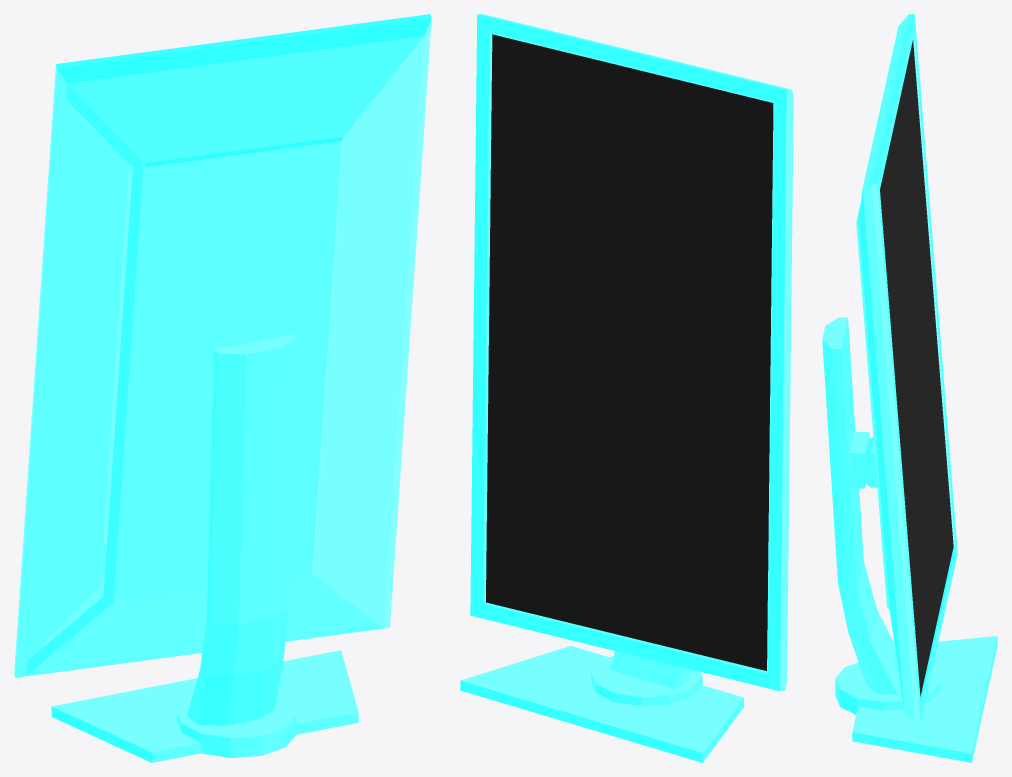
Rendered from Monitor_Vertical.fbx.
3 views of the same model, side by side, from view 1: azimuth 30°, elevation 25°; view 2: azimuth 150°, elevation 25°; view 3: azimuth 270°, elevation 25° (orthographic). The views are drawn at different scales.
Visible parts, largest first — view 1: Monitor_01.037; view 2: Monitor_01.037; view 3: Monitor_01.037.
Boxes of the visible parts, x1=… form: Monitor_01.037: x1=14, y1=14, x2=431, y2=762; Monitor_01.037: x1=460, y1=14, x2=793, y2=762; Monitor_01.037: x1=822, y1=14, x2=997, y2=762.
Bounding box in the file's own units: 37.25 × 66.61 × 17.29.
